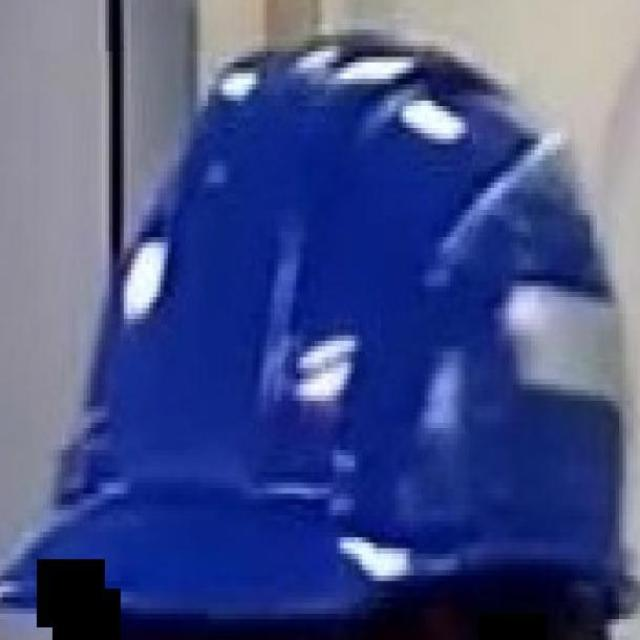blue helmet: (13, 33, 640, 621)
